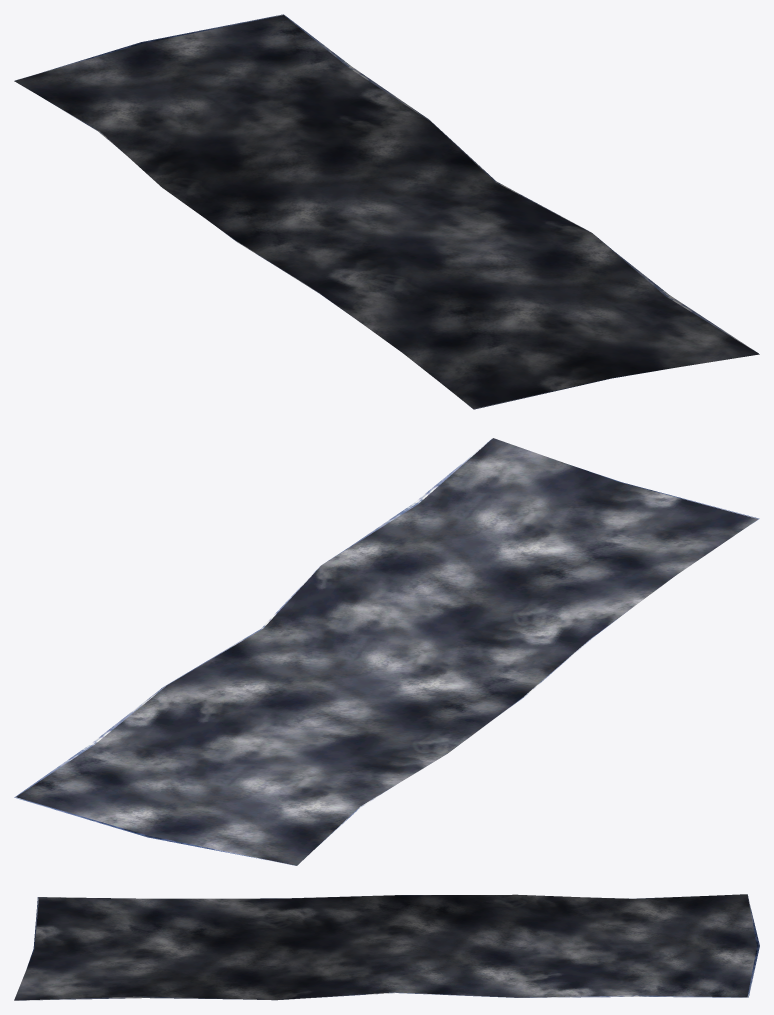
The model's file is LONE_MOUNTAIN_WATERFALLS_MAIN_WATERFALL_BILLOWS02.fbx.
The picture shows the model from 3 angles, top to bottom: view 1: azimuth 30°, elevation 25°; view 2: azimuth 150°, elevation 25°; view 3: azimuth 270°, elevation 25°; orthographic projection. The views are drawn at different scales.
Visible parts, largest first — view 1: LONE_MOUNTAIN_WATERFALLS_MAIN_WATERFALL_BILLOWS02; view 2: LONE_MOUNTAIN_WATERFALLS_MAIN_WATERFALL_BILLOWS02; view 3: LONE_MOUNTAIN_WATERFALLS_MAIN_WATERFALL_BILLOWS02.
Part boxes in pixels (x1,y1,x2,y2): LONE_MOUNTAIN_WATERFALLS_MAIN_WATERFALL_BILLOWS02: (14,14,759,409); LONE_MOUNTAIN_WATERFALLS_MAIN_WATERFALL_BILLOWS02: (14,438,759,865); LONE_MOUNTAIN_WATERFALLS_MAIN_WATERFALL_BILLOWS02: (14,894,759,1000).
Bounding box in the file's own units: 43401 × 78.73 × 127878.
2 materials, 2 textured.
